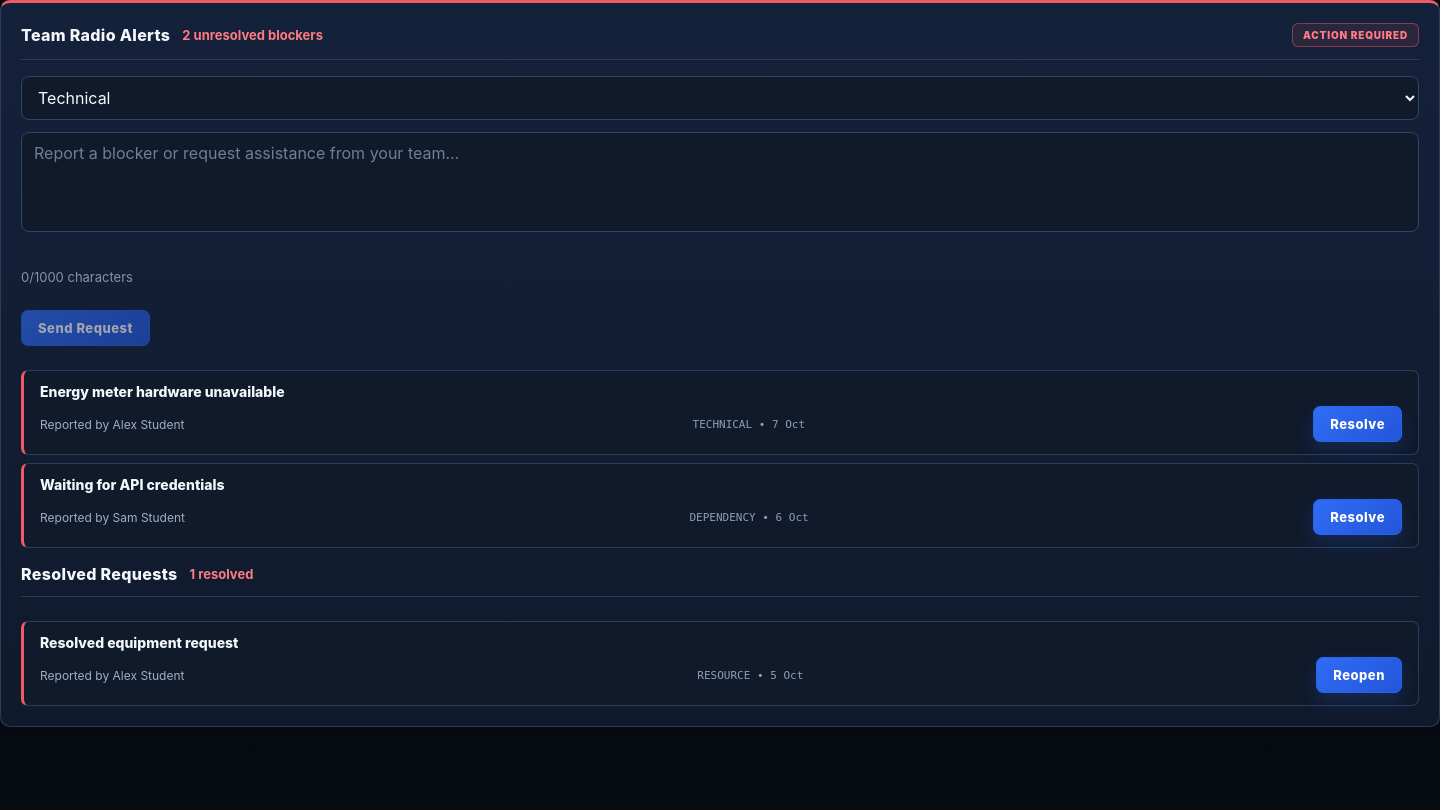
Scenario: TeamRadioAlert Integration Tests › submits a new assistance request and reloads the server list
Expected: the text "Energy meter hardware unavailable" is shown, [40,383,285,400]
Step 1. Type "Database connection failing" into the text box named "Assistance request message" → {"x": 720, "y": 182}, box [21,132,1419,232]
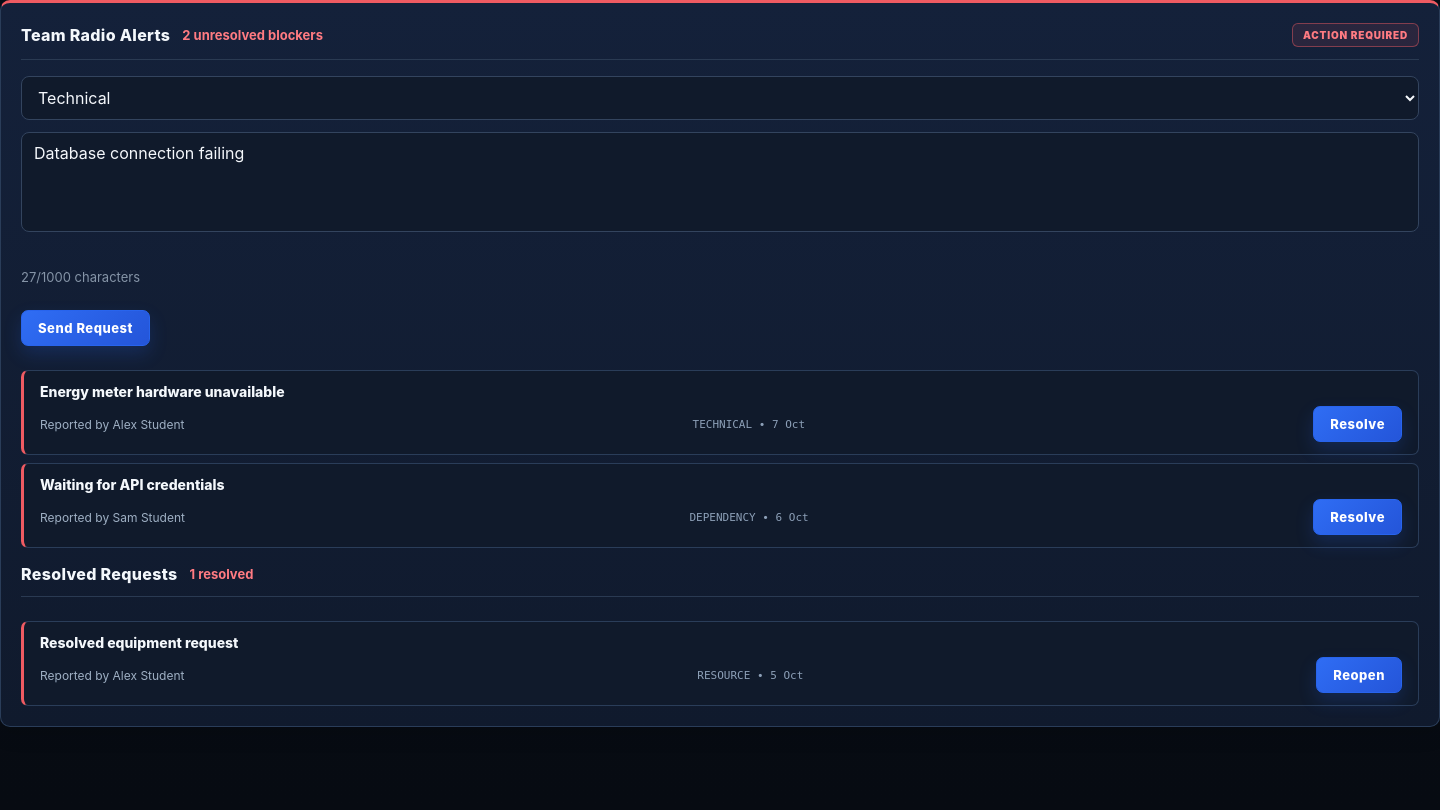
Step 2. Select "Technical" in the dropdown named "Assistance request category" → {"x": 720, "y": 98}, box [21,76,1419,120]
Step 3. Click the button "Send Request" → {"x": 86, "y": 328}, box [21,310,150,346]
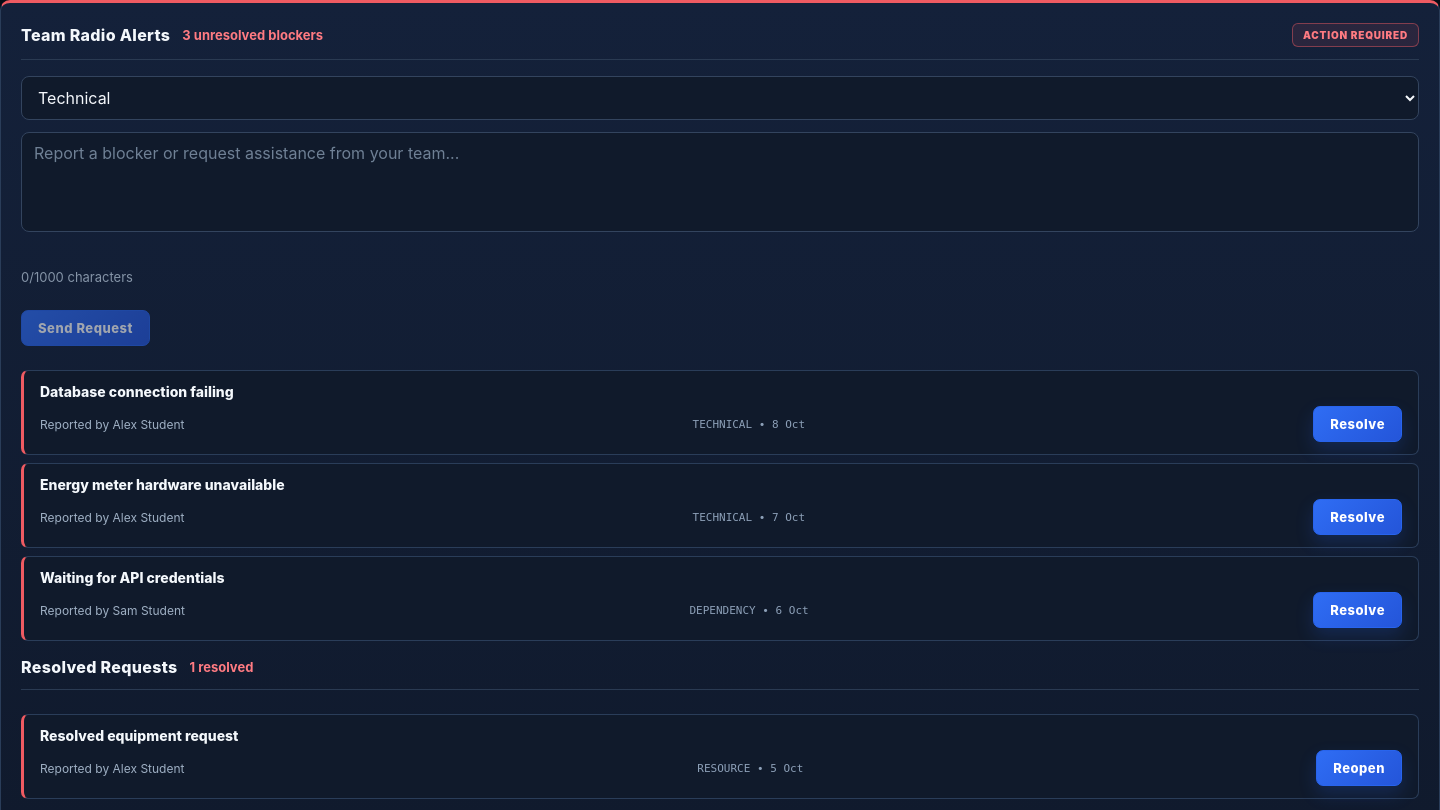
Expected: the text box "Database connection failing" is shown, [21,132,1419,232]
Result: the text "3 unresolved blockers" is shown at [182,27,323,43]
